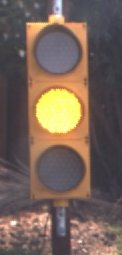Yellow: (14, 10, 105, 208)
